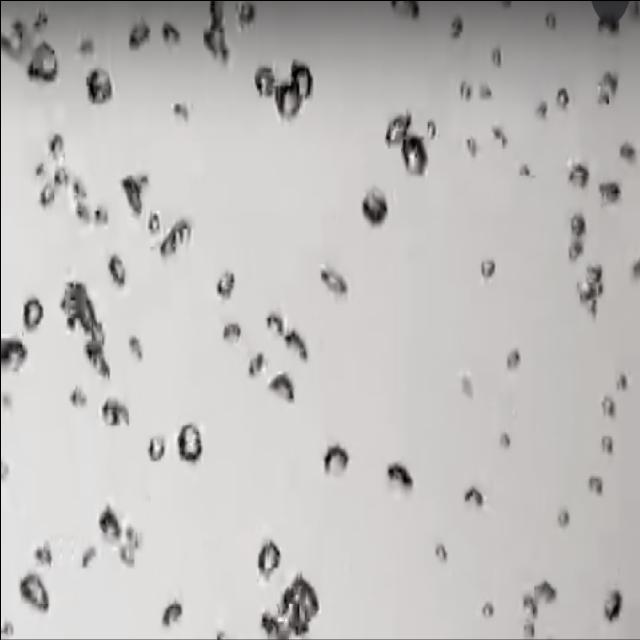bubble: (54, 275, 109, 379), (258, 576, 330, 636), (256, 58, 314, 122), (268, 311, 308, 363), (203, 0, 229, 64), (158, 218, 192, 260), (28, 42, 58, 85), (120, 173, 149, 217), (383, 101, 411, 145), (590, 0, 630, 30), (18, 574, 48, 613), (403, 136, 429, 180), (176, 422, 202, 464), (0, 337, 28, 375), (97, 500, 119, 548), (85, 67, 112, 106), (361, 190, 387, 228), (256, 539, 280, 580), (118, 525, 140, 568), (572, 279, 596, 318), (385, 462, 413, 495), (319, 266, 347, 298), (322, 444, 348, 478), (100, 398, 128, 429), (168, 91, 192, 127), (268, 372, 294, 404), (533, 573, 555, 609), (596, 71, 618, 107), (602, 588, 622, 622), (128, 20, 150, 50), (22, 298, 42, 330), (598, 180, 621, 207), (567, 162, 589, 190), (108, 255, 126, 287), (216, 270, 234, 300), (162, 602, 182, 628), (583, 264, 602, 291), (462, 486, 483, 510), (516, 158, 534, 186), (147, 436, 165, 462), (247, 352, 265, 378), (8, 21, 24, 50), (266, 313, 284, 338), (488, 119, 504, 147), (74, 197, 90, 225), (162, 22, 180, 46), (34, 542, 52, 566), (569, 213, 585, 239), (567, 238, 583, 264), (39, 182, 55, 208), (71, 176, 87, 202), (237, 3, 254, 27), (521, 594, 537, 619), (618, 142, 636, 164), (222, 322, 240, 344), (68, 386, 86, 408), (32, 9, 48, 33), (128, 336, 142, 362), (459, 373, 473, 399), (51, 166, 66, 189), (81, 546, 96, 569), (506, 348, 520, 372), (601, 395, 615, 419), (48, 134, 62, 158), (555, 88, 569, 111), (92, 206, 108, 226), (600, 434, 614, 456), (480, 258, 494, 280), (588, 475, 602, 497), (77, 38, 93, 57), (556, 508, 570, 529), (476, 80, 492, 98), (450, 16, 462, 40), (148, 210, 160, 234), (434, 542, 447, 564), (459, 80, 472, 102), (630, 256, 640, 281), (465, 136, 476, 158), (616, 372, 628, 392), (535, 100, 547, 120), (0, 620, 14, 636), (498, 432, 511, 449), (490, 48, 501, 68), (1, 392, 12, 412), (482, 600, 494, 618), (544, 14, 556, 32), (522, 620, 534, 638), (426, 120, 436, 141), (390, 0, 404, 15), (408, 2, 419, 20), (34, 162, 45, 179), (0, 458, 6, 482), (500, 1, 511, 9), (631, 4, 637, 15), (391, 4, 395, 6)
